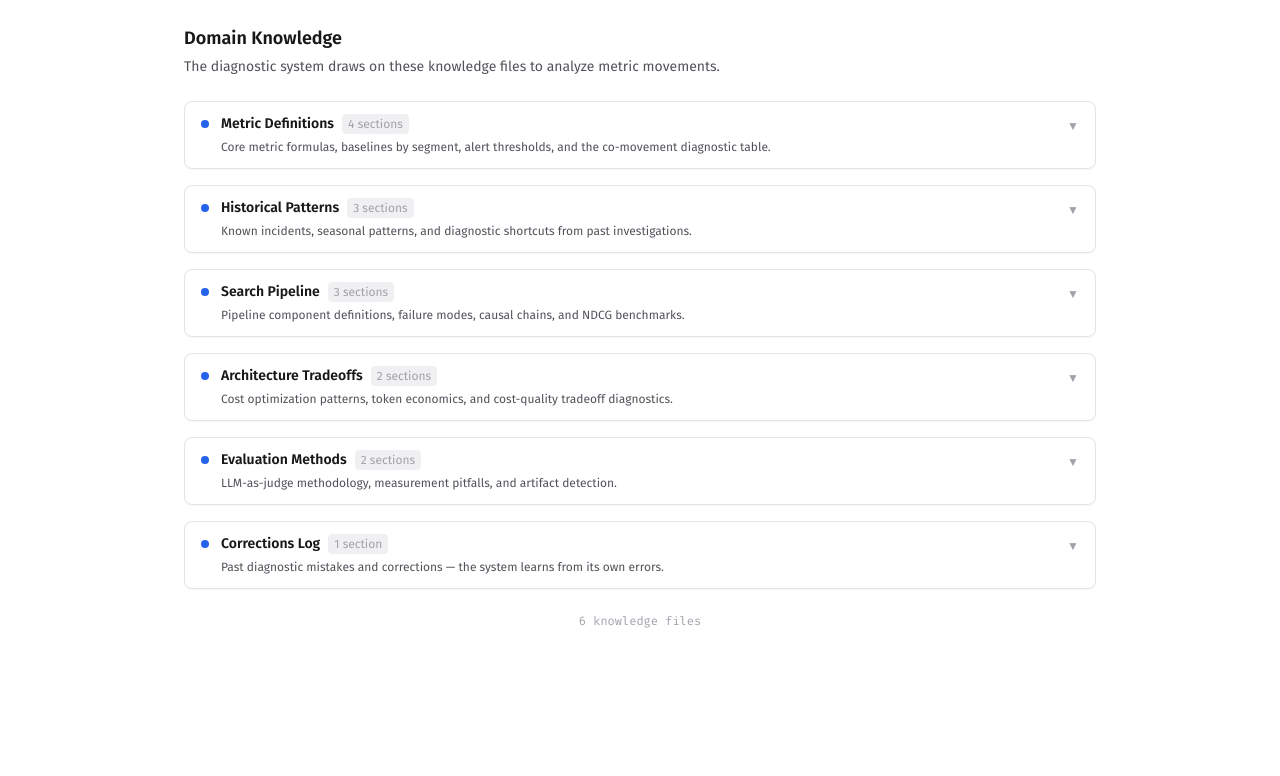
Test: KnowledgeBaseTab › expanding one card does not expand others
# Click the first card (Metric Definitions)
Click the button that starts with "Metric Definitions" at x=278, y=124, box [185, 102, 1095, 168]
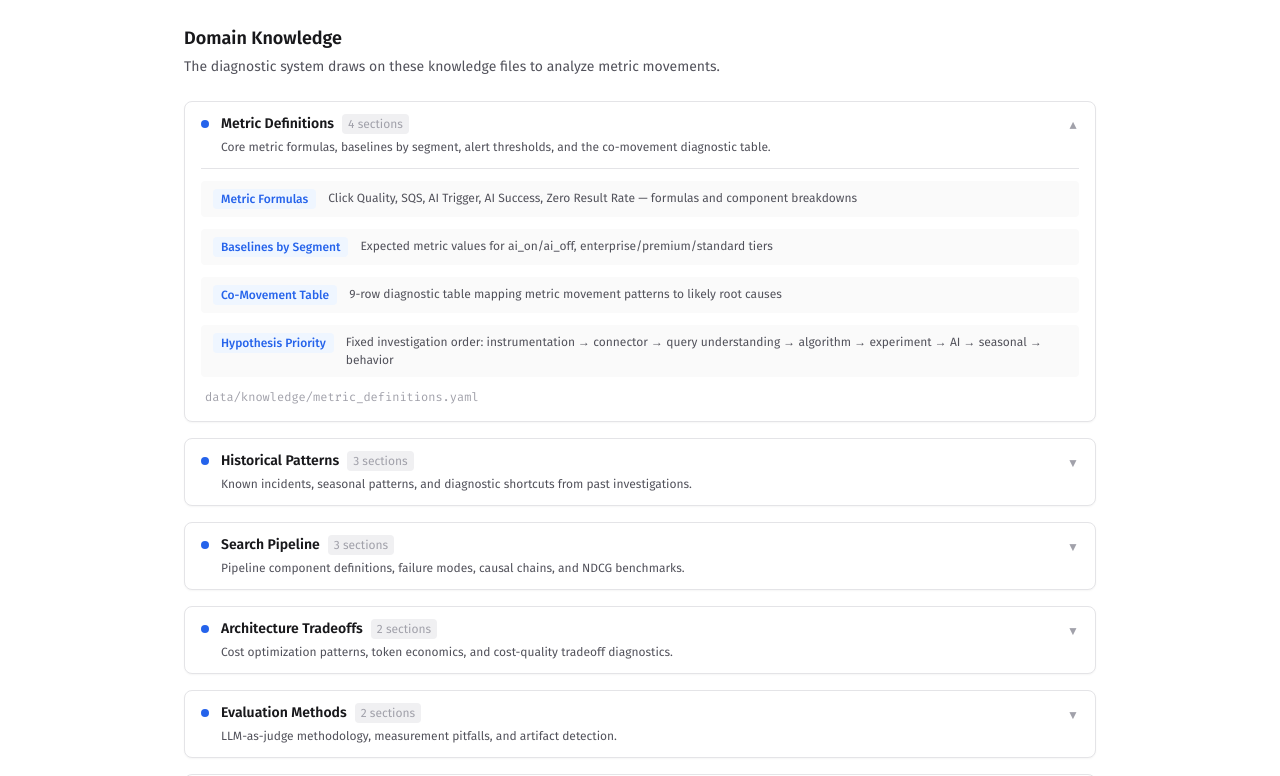
Now the text "Metric Formulas" is shown, box [213, 189, 316, 209]
